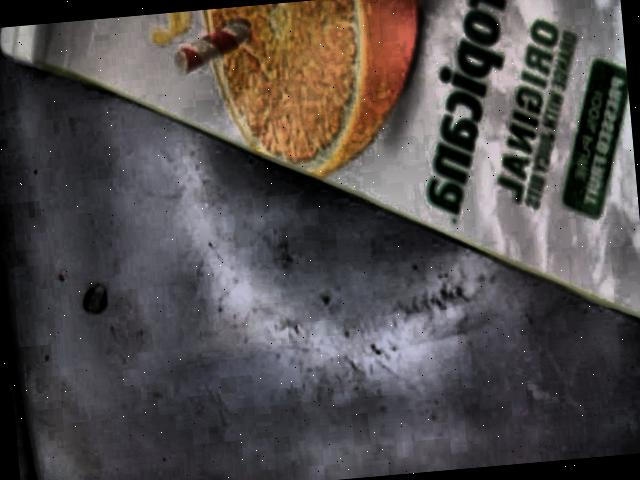Paper: (0, 0, 640, 316)
